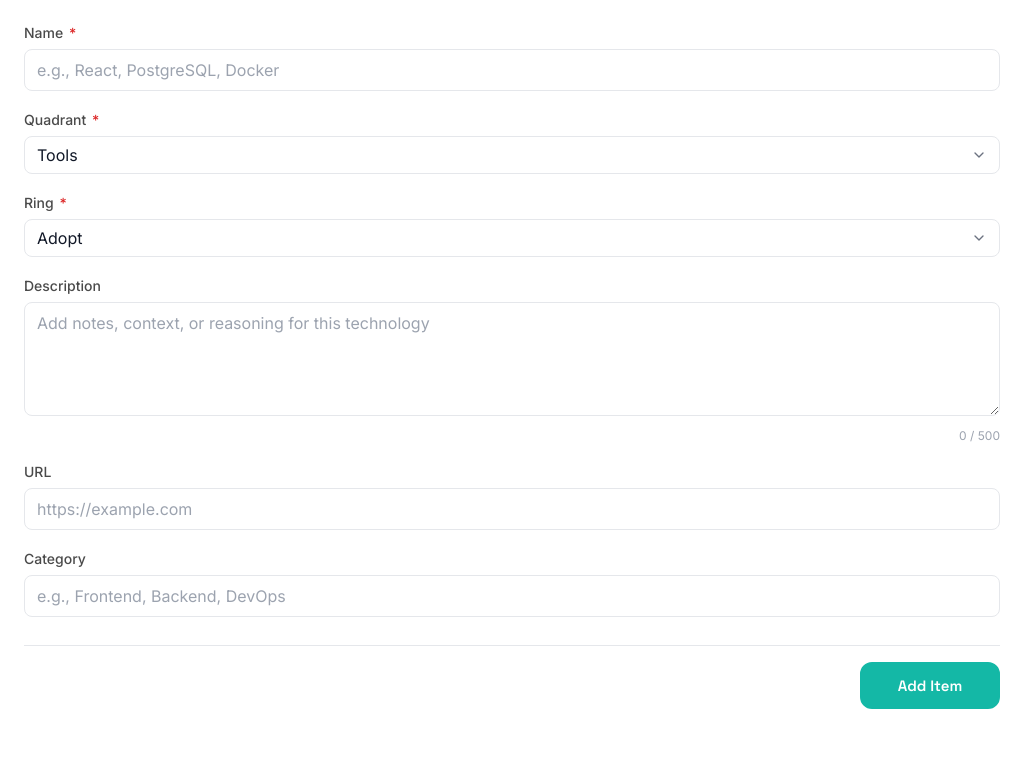
Test: TechItemForm › Rendering - Add Mode › should populate quadrant dropdown with custom names
Click the button named "quadrant". click: (57, 155)
box: [24,136,1000,174]
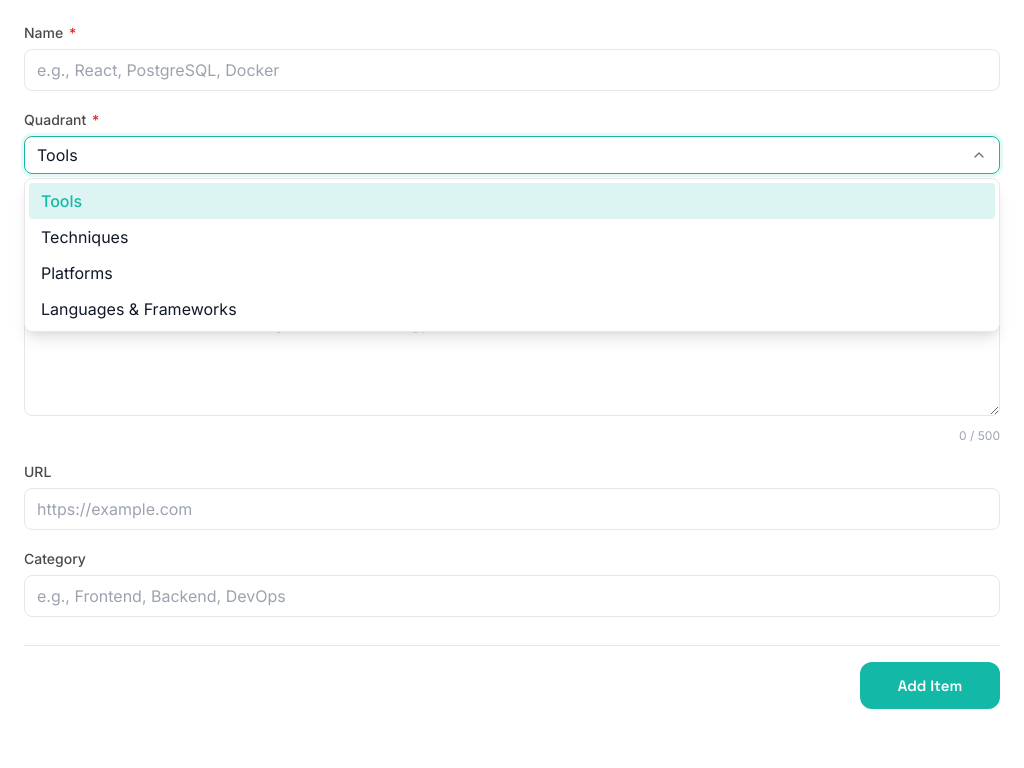
Expected: the option "Tools" is shown, [29,183,995,219]
Expected: the option "Techniques" is shown, [41,227,128,247]
Expected: the option "Platforms" is shown, [41,263,113,283]
